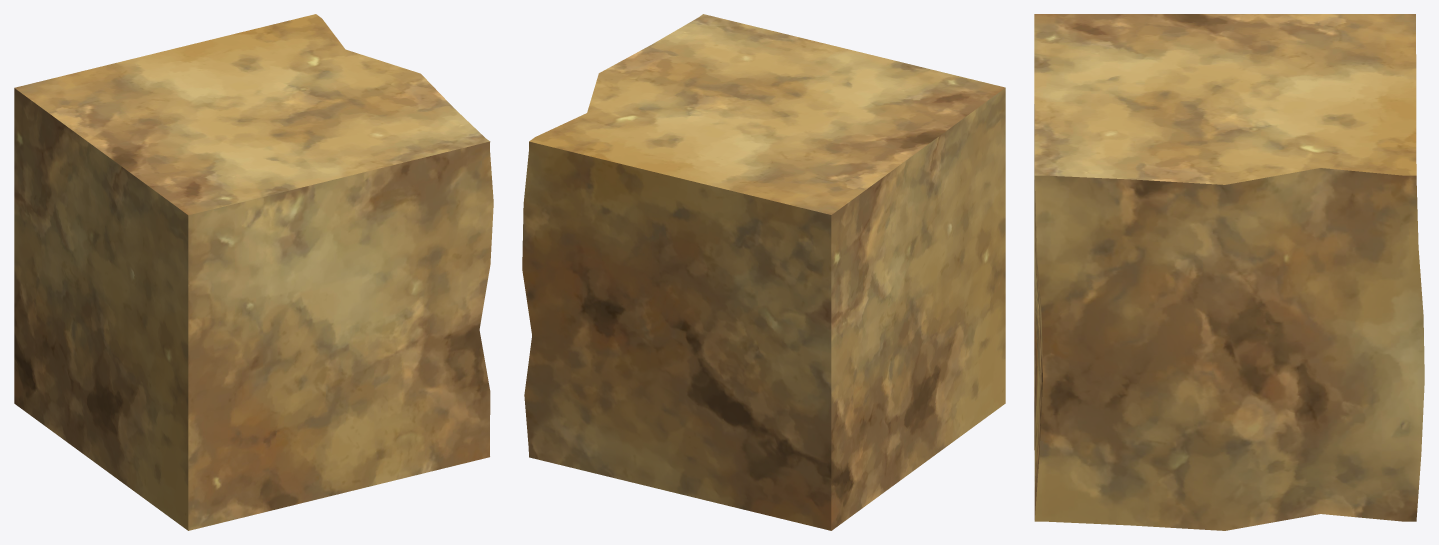
The model's file is DirtWall.fbx.
3 views of the same model, side by side, from view 1: azimuth 30°, elevation 25°; view 2: azimuth 150°, elevation 25°; view 3: azimuth 270°, elevation 25° (orthographic). The views are drawn at different scales.
Parts seen in each view (by area): view 1: DirtWall.002; view 2: DirtWall.002; view 3: DirtWall.002.
Part boxes in pixels (bbox=[...]): DirtWall.002: bbox=[14, 14, 493, 530]; DirtWall.002: bbox=[522, 14, 1005, 530]; DirtWall.002: bbox=[1034, 14, 1424, 530].
Size of the model in its own units: 217 by 200 by 205.
